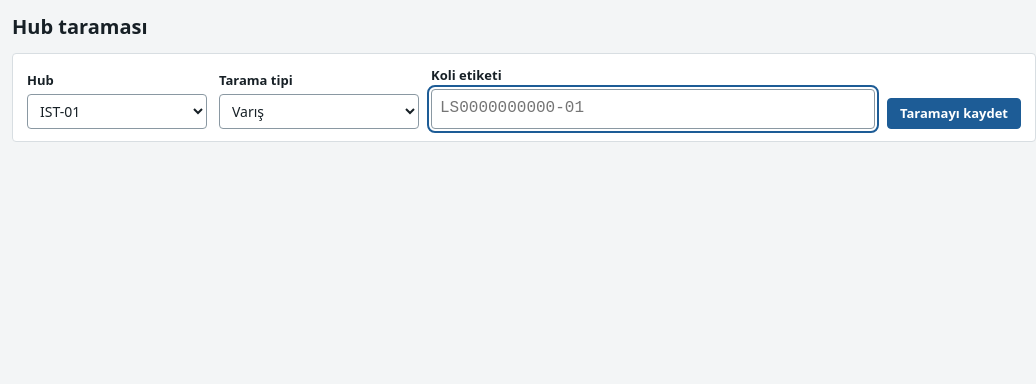
Test: hub tarama ekranı › uygulanan taramayı sesli okunur sonuç kutusunda durum ve konsolidasyonla gösterir
Type "ls4829105735-01" into the field labelled "Koli etiketi" at (653, 109), box [431, 89, 875, 129]
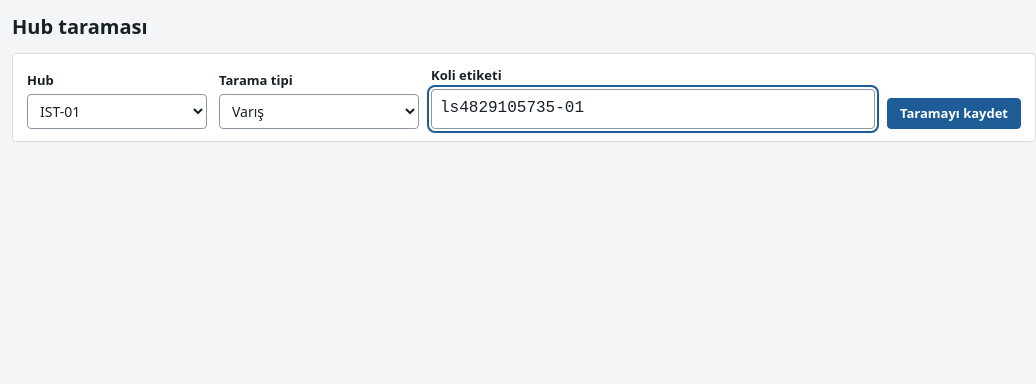
Click the button "Taramayı kaydet" at (954, 113), box [887, 98, 1021, 129]
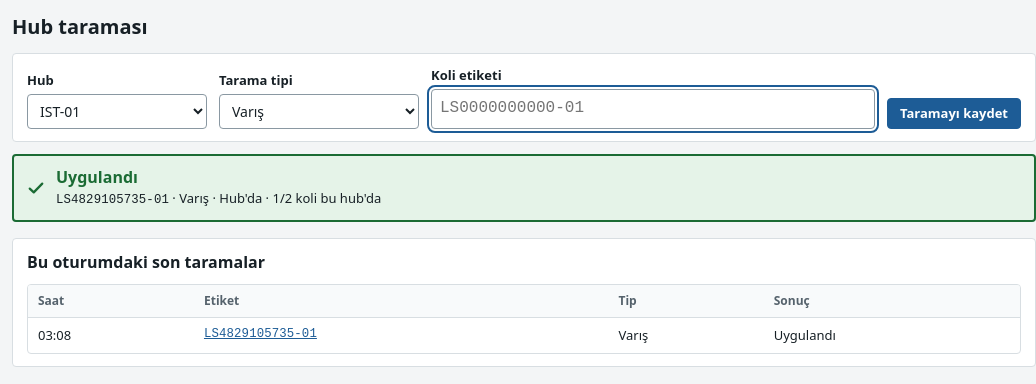
Expected: the text "LS4829105735-01 · Varış · Hub'da · 1/2 koli bu hub'da" is shown, [56, 189, 381, 210]
Expected: the field labelled "Koli etiketi" is empty, [431, 89, 875, 129]
